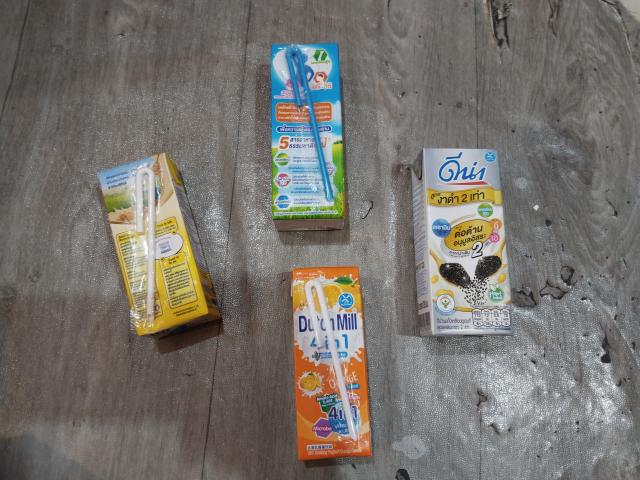drink_box: (85, 146, 236, 357), (409, 145, 516, 343), (287, 265, 379, 469), (268, 39, 348, 236)
